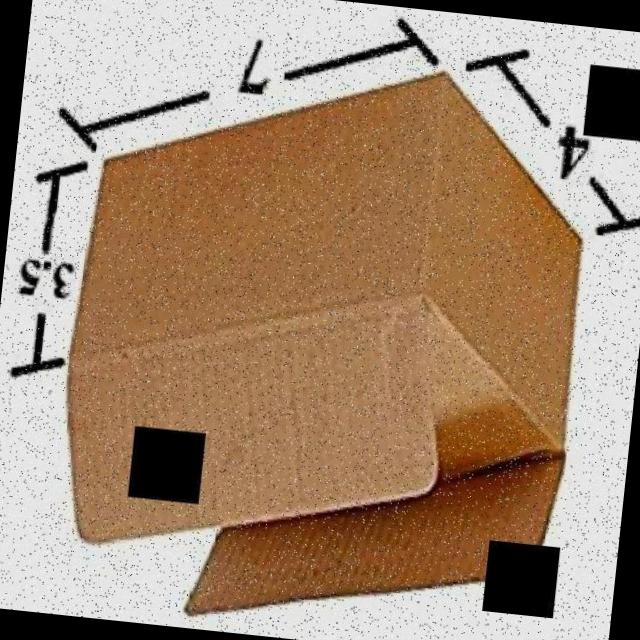box: (41, 31, 608, 640)
